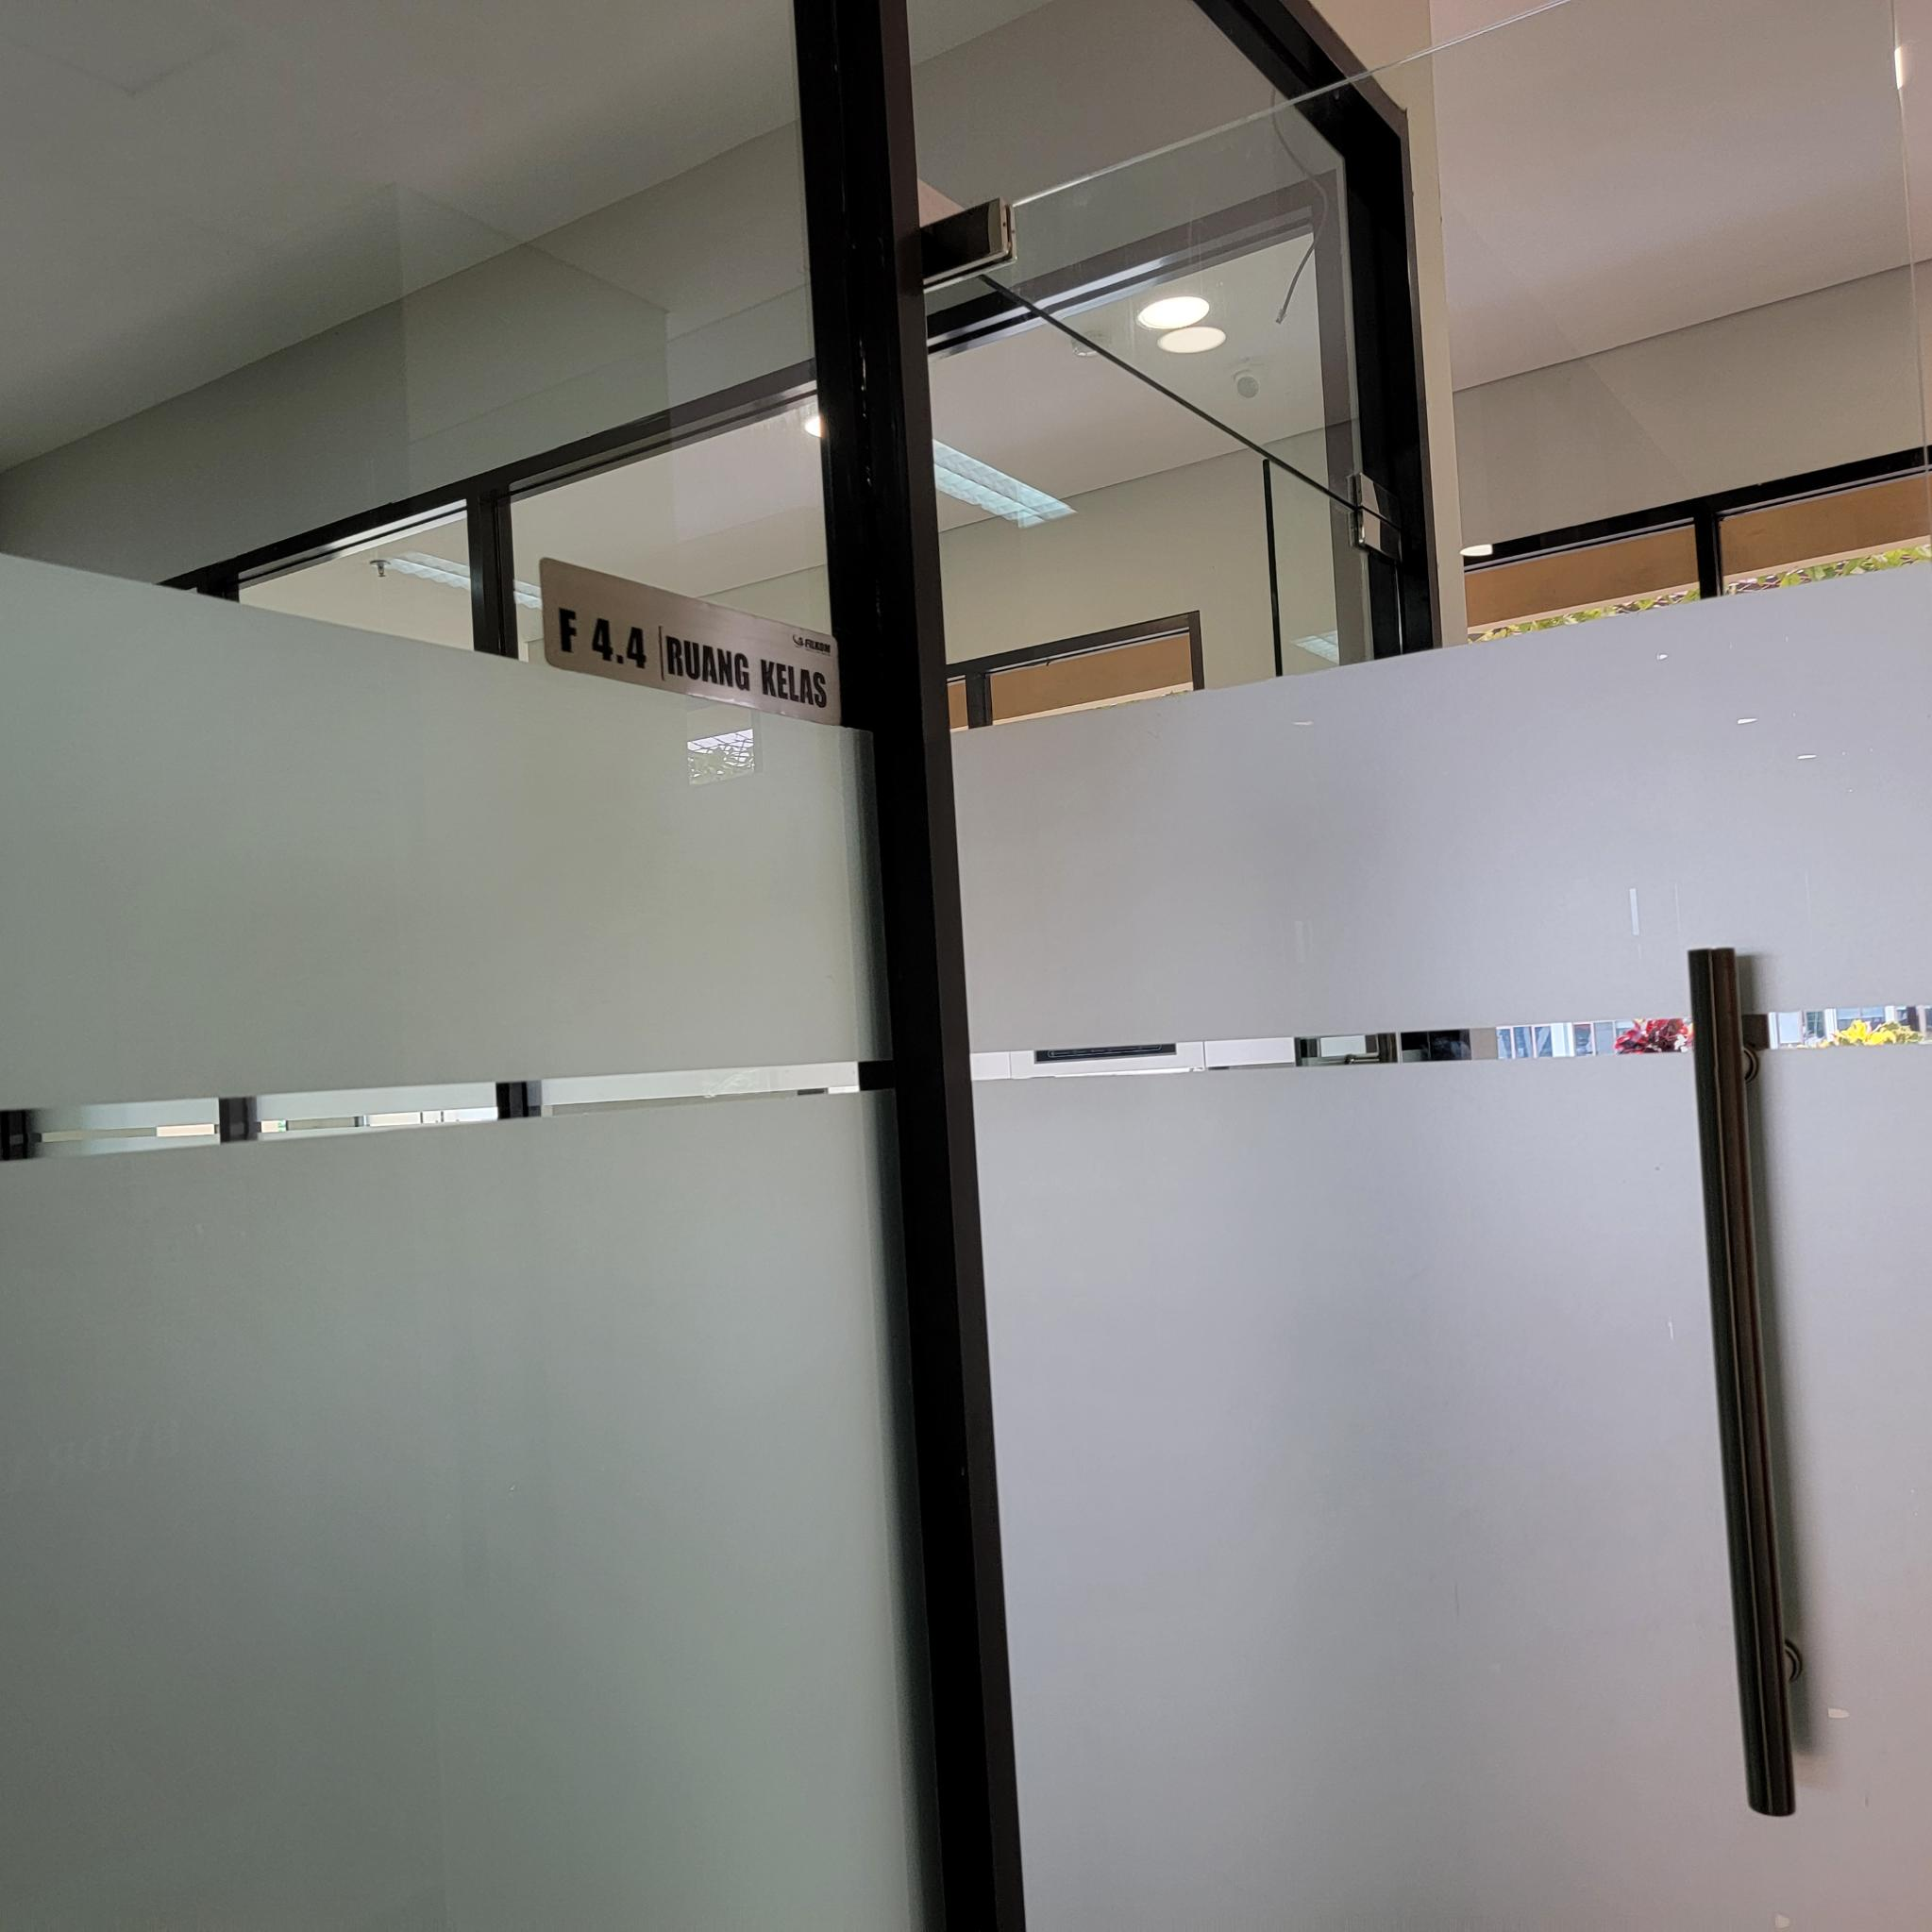plate: (540, 556, 844, 729)
